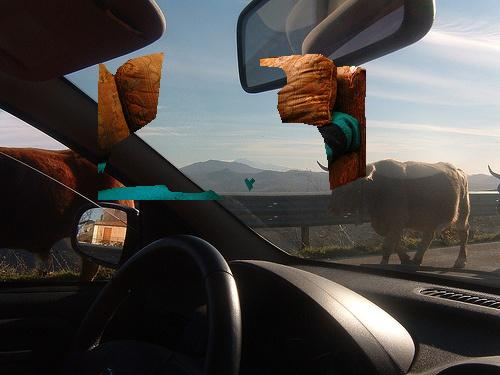tampered: (99, 53, 366, 200)
